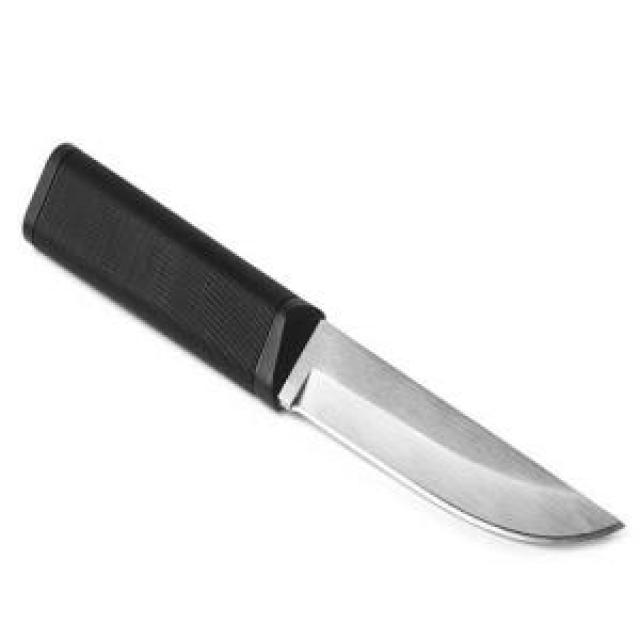knife: (15, 141, 629, 554)
